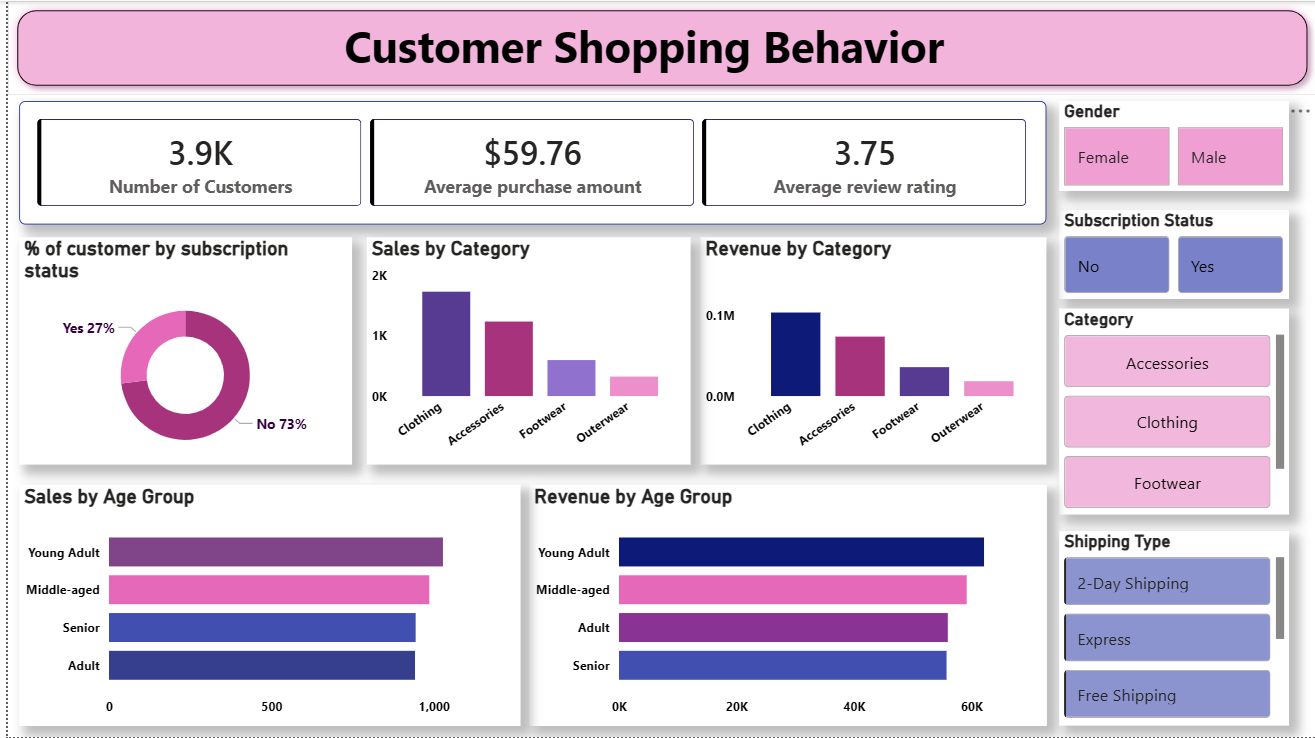

The page's visual inventory and layout, read from the dashboard file:
{"tool":"powerbi","page":{"name":"Page 1","canvas":[1500,821],"ordinal":0},"visuals":[{"type":"cardVisual","fields":{"Data":["public customer.Number of Customer","public customer.Average purchase Amount","public customer.Average Review Rating"]},"box":[257.5,120,1242.8,174.3],"z":0},{"type":"shape","box":[0,0,1500.3,120],"z":1000},{"type":"textbox","box":[163.1,19.2,1124.4,81.6],"z":2000},{"type":"shape","box":[257.5,289.5,423.9,222.3],"z":3000},{"type":"donutChart","title":"% of Customers by subscription_status","fields":{"Category":["public customer.subscription_status"],"Y":["CountNonNull(public customer.customer_id)"]},"box":[299.1,310.3,363.1,185.5],"z":4000},{"type":"shape","box":[684.6,289.5,404.7,222.3],"z":5000},{"type":"shape","box":[1092.1,291.1,407.9,220.7],"z":6000},{"type":"clusteredColumnChart","title":"Revenue by category","fields":{"Y":["Sum(public customer.purchase_amount)"],"Category":["public customer.category"]},"box":[713.4,307.1,361.5,188.7],"z":7000},{"type":"clusteredColumnChart","title":"Sales by category","fields":{"Category":["public customer.category"],"Y":["Sum(public customer.customer_id)"]},"box":[281.5,543.8,566.2,239.9],"z":8000},{"type":"shape","box":[0,120,257.5,700.6],"z":9000},{"type":"advancedSlicerVisual","title":"Subscription status","fields":{"Values":["public customer.subscription_status"]},"box":[38.4,144,182.3,75.2],"z":10000},{"type":"advancedSlicerVisual","fields":{"Values":["public customer.gender"]},"box":[38.4,230.3,182.3,76.8],"z":11000},{"type":"advancedSlicerVisual","fields":{"Values":["public customer.category"]},"box":[38.4,321.5,150.4,177.5],"z":12000},{"type":"listSlicer","fields":{"Values":["public customer.shipping_type"]},"box":[38.4,507,142.4,295.9],"z":13000},{"type":"shape","box":[257.5,523,611,279.9],"z":14000},{"type":"shape","box":[868.5,523,631.8,279.9],"z":15000},{"type":"clusteredBarChart","title":"Revenue by Age Group","fields":{"Y":["Sum(public customer.purchase_amount)"],"Category":["public customer.age_group"]},"box":[1118,307.1,367.9,183.9],"z":16000},{"type":"clusteredBarChart","title":"Sales by Age Group","fields":{"Category":["public customer.age_group"],"Y":["CountNonNull(public customer.customer_id)"]},"box":[890.9,543.8,595,239.9],"z":17000},{"type":"clusteredBarChart","title":"Revenue by Age Group","fields":{"Category":["public customer.age_group"],"Y":["Sum(public customer.purchase_amount)"]},"box":[281.5,543.8,566.2,239.9],"z":18000}]}

Visuals, with their boxes in screenshot pixels (x1, y1, x2, y2), scaled from the page's 1500x821 canvas onto the 1315x738 screenshot:
cardVisual - public customer.Number of Customer x public customer.Average purchase Amount: x1=226 y1=108 x2=1314 y2=265
shape: x1=0 y1=0 x2=1314 y2=108
textbox: x1=143 y1=17 x2=1129 y2=91
shape: x1=226 y1=260 x2=597 y2=460
"% of Customers by subscription_status" donutChart: x1=262 y1=279 x2=581 y2=446
shape: x1=600 y1=260 x2=955 y2=460
shape: x1=957 y1=262 x2=1314 y2=460
"Revenue by category" clusteredColumnChart: x1=625 y1=276 x2=942 y2=446
"Sales by category" clusteredColumnChart: x1=247 y1=489 x2=743 y2=704
shape: x1=0 y1=108 x2=226 y2=737
"Subscription status" advancedSlicerVisual: x1=34 y1=129 x2=193 y2=197
advancedSlicerVisual - public customer.gender: x1=34 y1=207 x2=193 y2=276
advancedSlicerVisual - public customer.category: x1=34 y1=289 x2=166 y2=449
listSlicer - public customer.shipping_type: x1=34 y1=456 x2=159 y2=722
shape: x1=226 y1=470 x2=761 y2=722
shape: x1=761 y1=470 x2=1314 y2=722
"Revenue by Age Group" clusteredBarChart: x1=980 y1=276 x2=1303 y2=441
"Sales by Age Group" clusteredBarChart: x1=781 y1=489 x2=1303 y2=704
"Revenue by Age Group" clusteredBarChart: x1=247 y1=489 x2=743 y2=704
